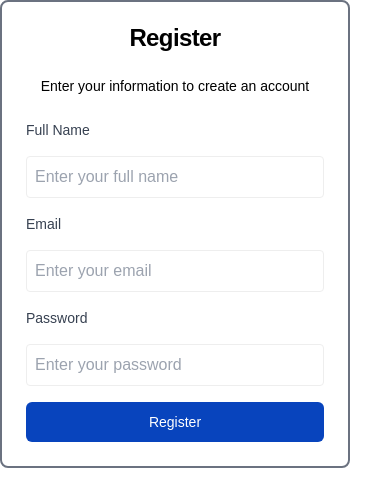
it: Register Component › handles successful registration
Fill in the form
Type "John Doe" into the field labelled "Full Name" at (175,177), box [26, 156, 324, 198]
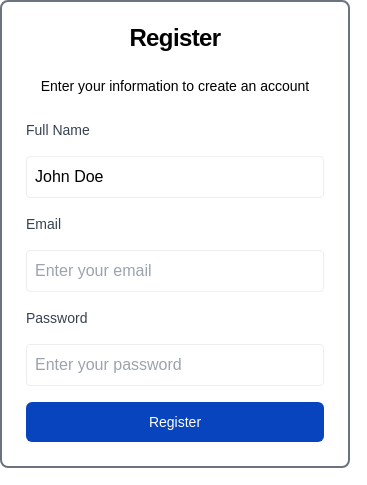
Type "john@example.com" into the field labelled "Email" at (175,271), box [26, 250, 324, 292]
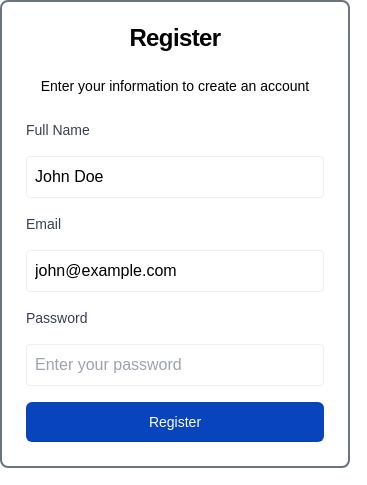
Type "password123" into the password field labelled "Password" at (175,365), box [26, 344, 324, 386]
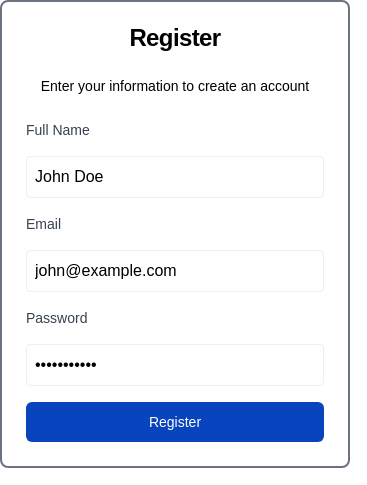
Submit the form
Click the button "Register" at (175,422), box [26, 402, 324, 442]
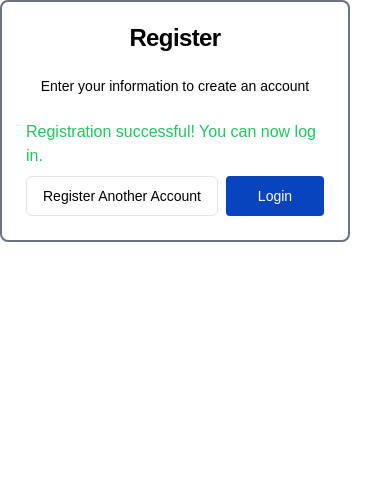
Result: the text "Registration successful! You can now log in." is shown at [26, 123, 316, 164]
